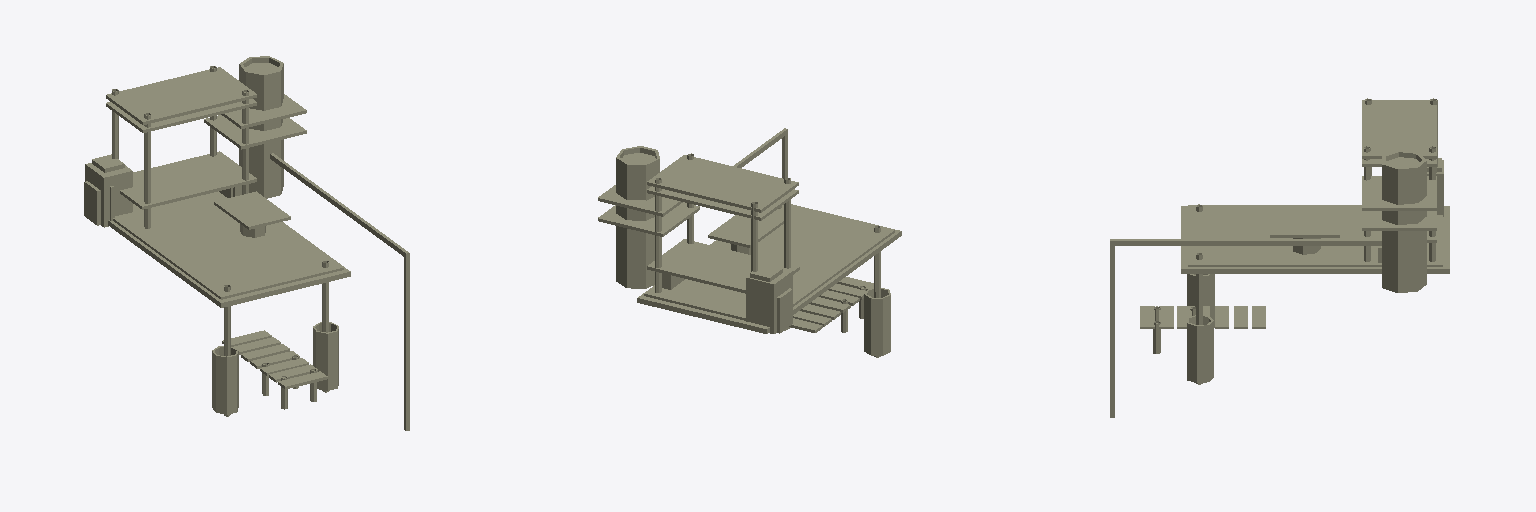
The model's file is building.obj.
The picture shows the model from 3 angles: view 1: azimuth 30°, elevation 25°; view 2: azimuth 150°, elevation 25°; view 3: azimuth 270°, elevation 25°; orthographic projection.
Visible parts, largest first — view 1: Cube.015_Cube.019; view 2: Cube.015_Cube.019; view 3: Cube.015_Cube.019.
Boxes of the visible parts, box(x1,y1,x2,y2) form: Cube.015_Cube.019: box(84, 56, 409, 430); Cube.015_Cube.019: box(598, 128, 901, 357); Cube.015_Cube.019: box(1110, 98, 1449, 417).
Size of the model in its own units: 1.41 by 1.89 by 2.26.